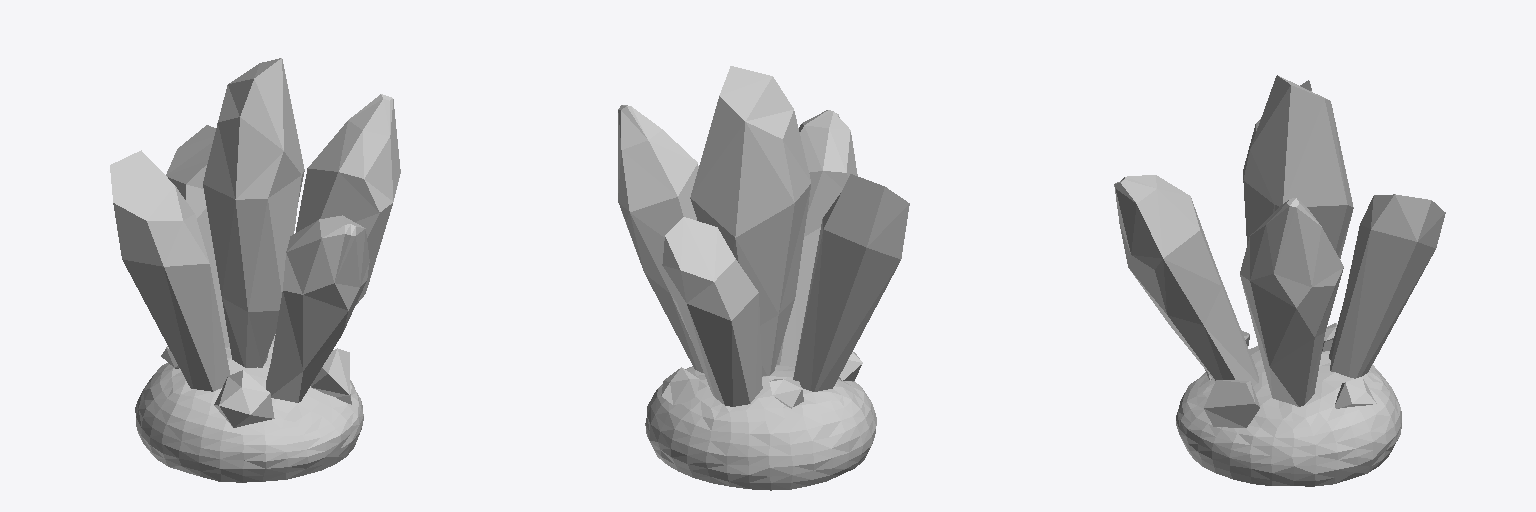
Rendered from Crystals_low.obj.
The picture shows the model from 3 angles: view 1: azimuth 30°, elevation 25°; view 2: azimuth 150°, elevation 25°; view 3: azimuth 270°, elevation 25°; orthographic projection.
Parts seen in each view (by area): view 1: Cylinder; view 2: Cylinder; view 3: Cylinder.
Part boxes in pixels (x1,y1,x2,y2): Cylinder: (110,58,400,482); Cylinder: (618,66,909,490); Cylinder: (1114,75,1445,486).
Size of the model in its own units: 0.7937 by 0.9941 by 0.8012.